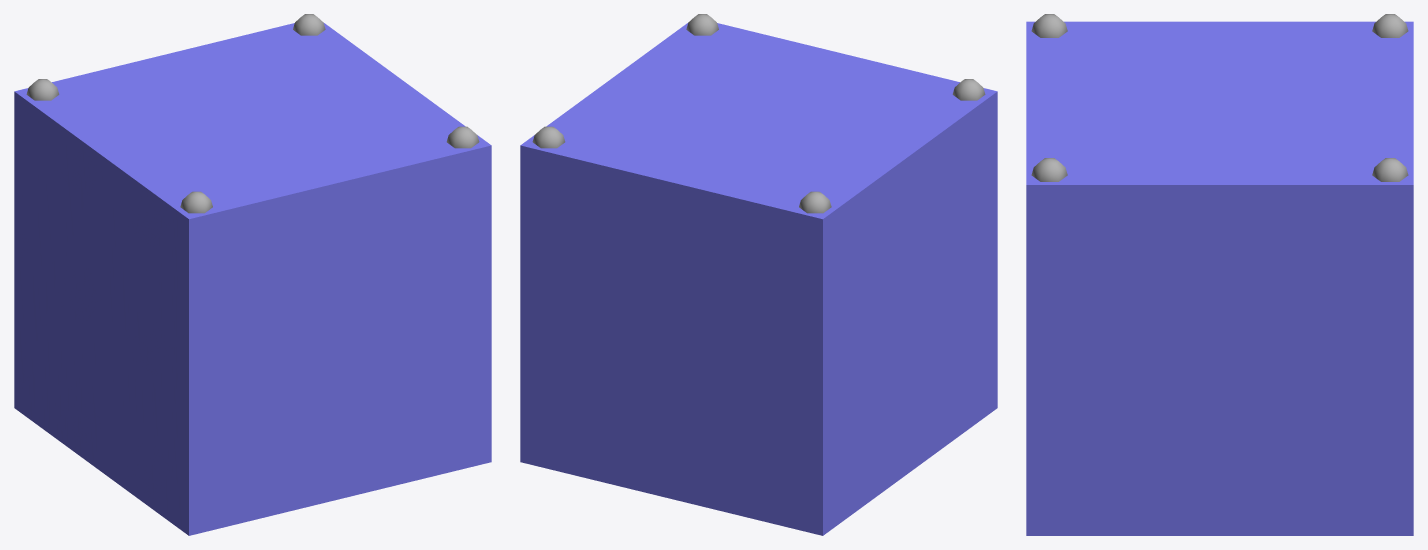
Rendered from rainbow_blue.fbx.
3 renders of one model, left to right at view 1: azimuth 30°, elevation 25°; view 2: azimuth 150°, elevation 25°; view 3: azimuth 270°, elevation 25°, orthographic. The views are drawn at different scales.
Parts seen in each view (by area): view 1: Mesh; view 2: Mesh; view 3: Mesh.
Boxes of the visible parts, x1,y1,x2,y2 form: Mesh: (14, 14, 491, 535); Mesh: (520, 14, 997, 535); Mesh: (1026, 14, 1413, 535).
Size of the model in its own units: 1 by 1.05 by 1.
